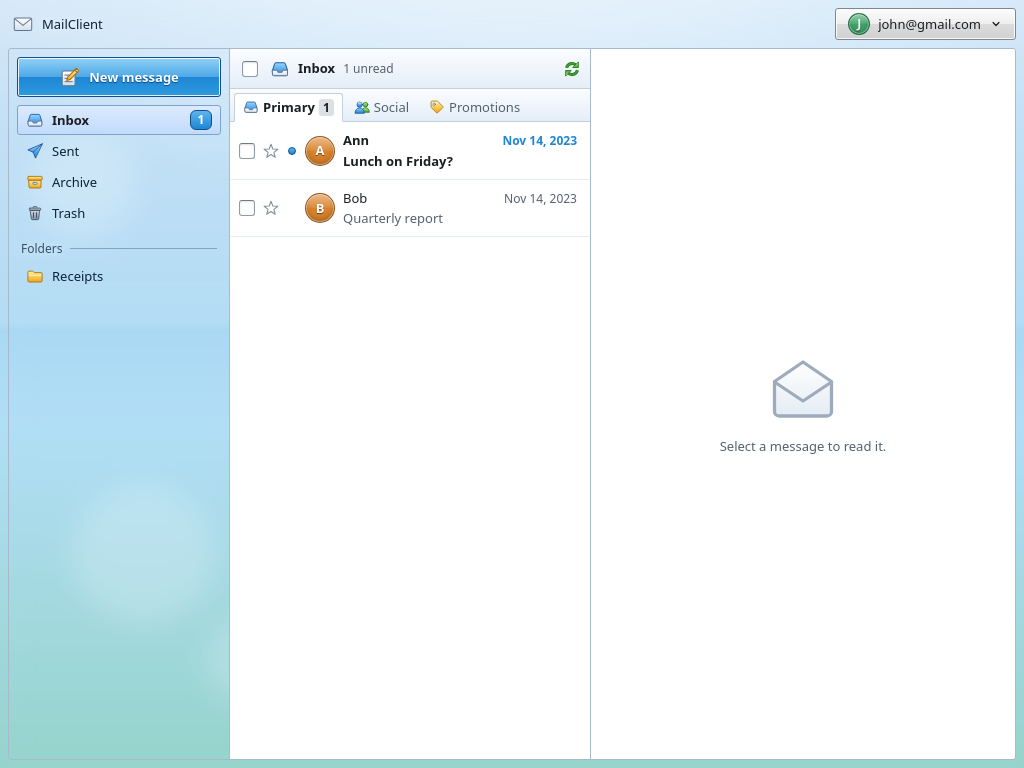
Scenario: Workspace › stars a message from its row in the list
Click the 1st button named "Star" at (271, 151), box [259,139,283,163]
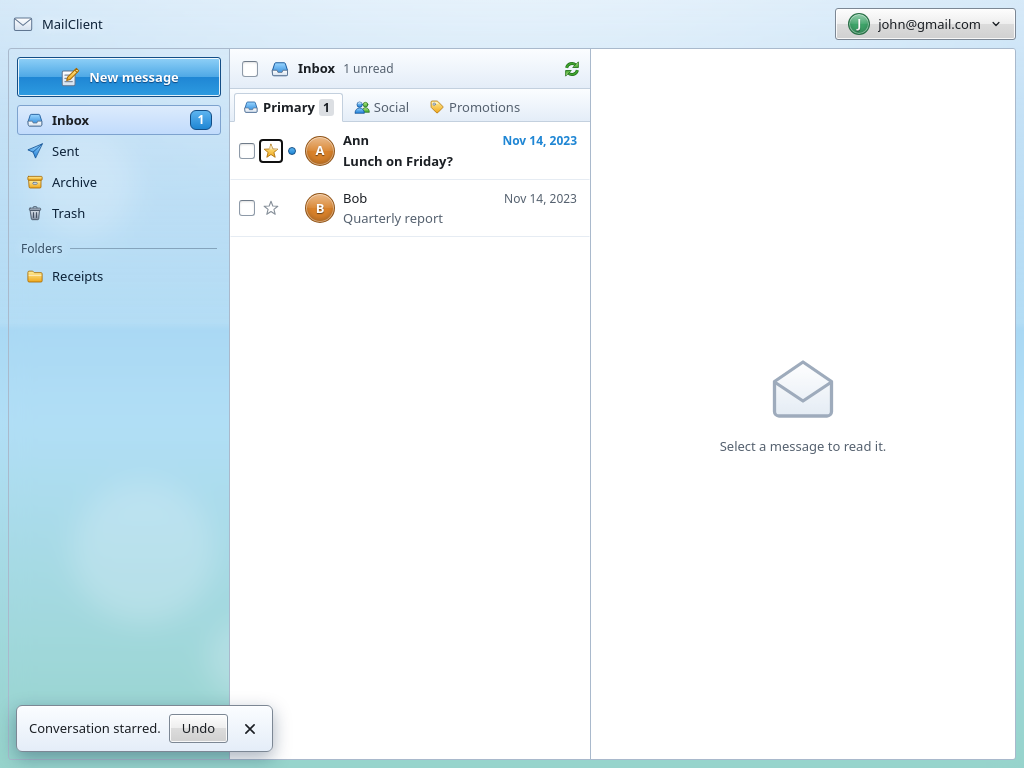
Check: the button named "Remove star" is shown, box [259,139,283,163]
